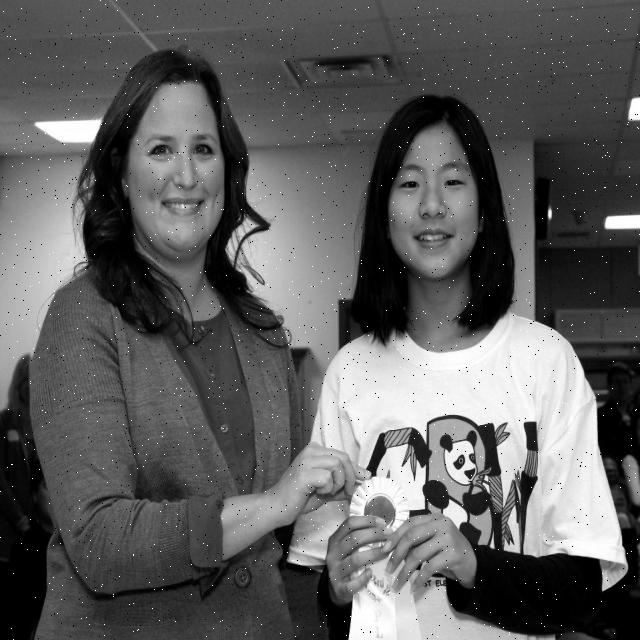panda: (421, 428, 490, 544)
